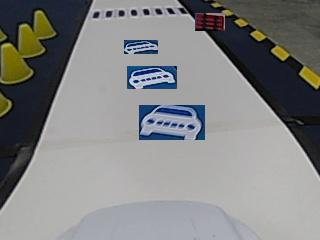crosswalk: (90, 6, 187, 18)
